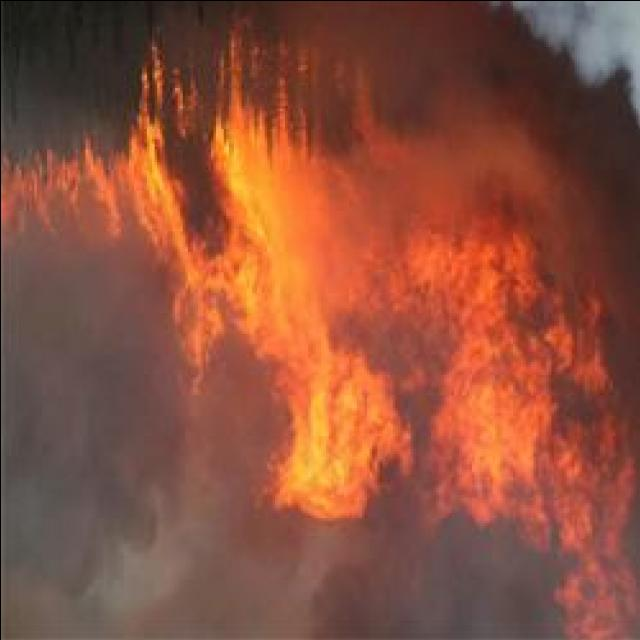fire: (458, 230, 640, 592), (272, 363, 414, 525), (212, 106, 280, 330), (132, 126, 178, 235), (25, 142, 108, 192)
smoke: (49, 417, 180, 602), (5, 260, 152, 402), (296, 528, 432, 636), (571, 0, 640, 90), (529, 0, 639, 51)
